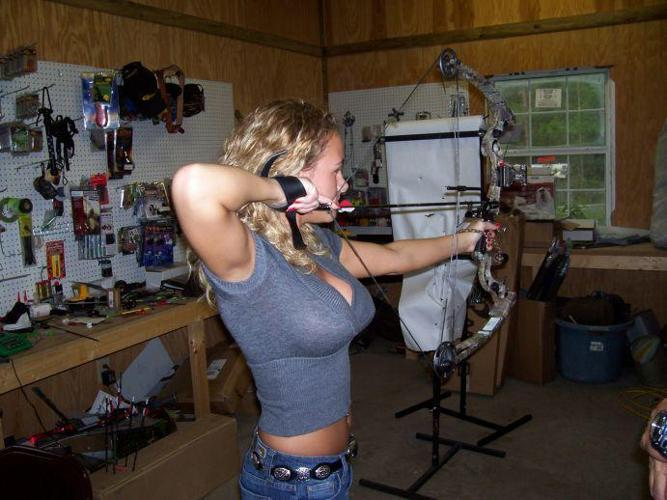person: (167, 100, 504, 495)
